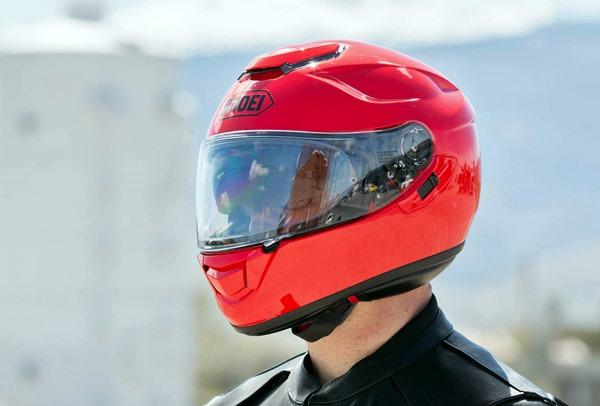helmet: (192, 38, 484, 336)
